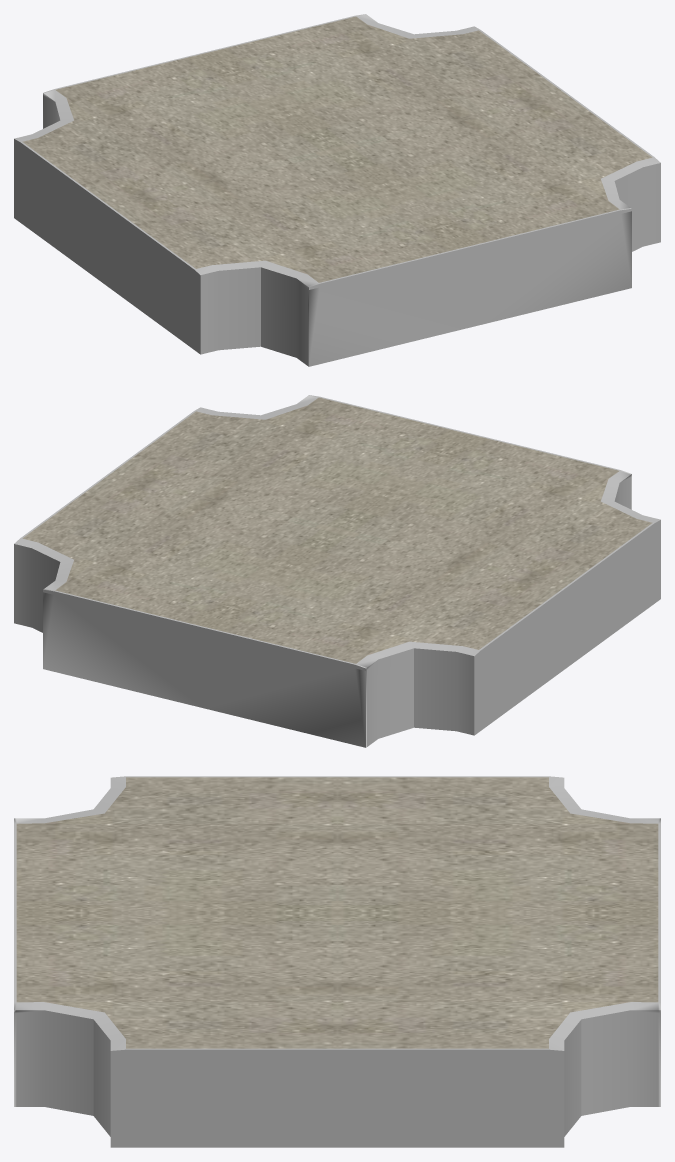
Rendered from road_02_cr.fbx.
3 renders of one model, top to bottom at view 1: azimuth 30°, elevation 25°; view 2: azimuth 150°, elevation 25°; view 3: azimuth 270°, elevation 25°, orthographic. The views are drawn at different scales.
Parts seen in each view (by area): view 1: road_02_cr; view 2: road_02_cr; view 3: road_02_cr.
Boxes of the visible parts, box(x1,y1,x2,y2) form: road_02_cr: box(14, 14, 660, 366); road_02_cr: box(14, 395, 660, 747); road_02_cr: box(14, 776, 660, 1147).
Size of the model in its own units: 11.99 by 2.01 by 12.
